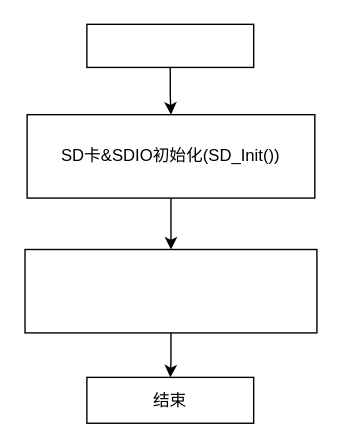
This 341x448 diagram has some shape labels left out. The shapes that lost their labels are listed below. From the top down, each one's centre as x and y in pixels, then its label:
At (169,45): "FATFS代码移植".
At (170,290): "SD卡的读写函数移植适配(diskio.c)".
